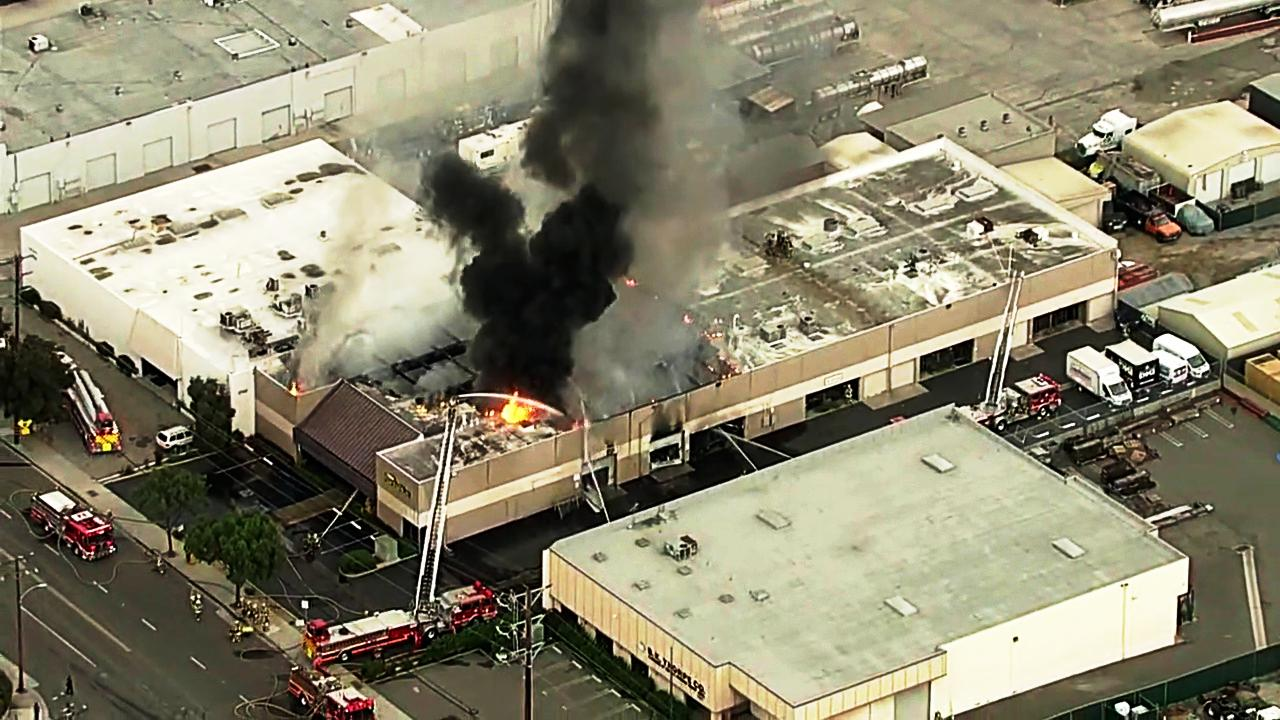fire: (494, 387, 537, 423)
smoke: (424, 157, 637, 378)
